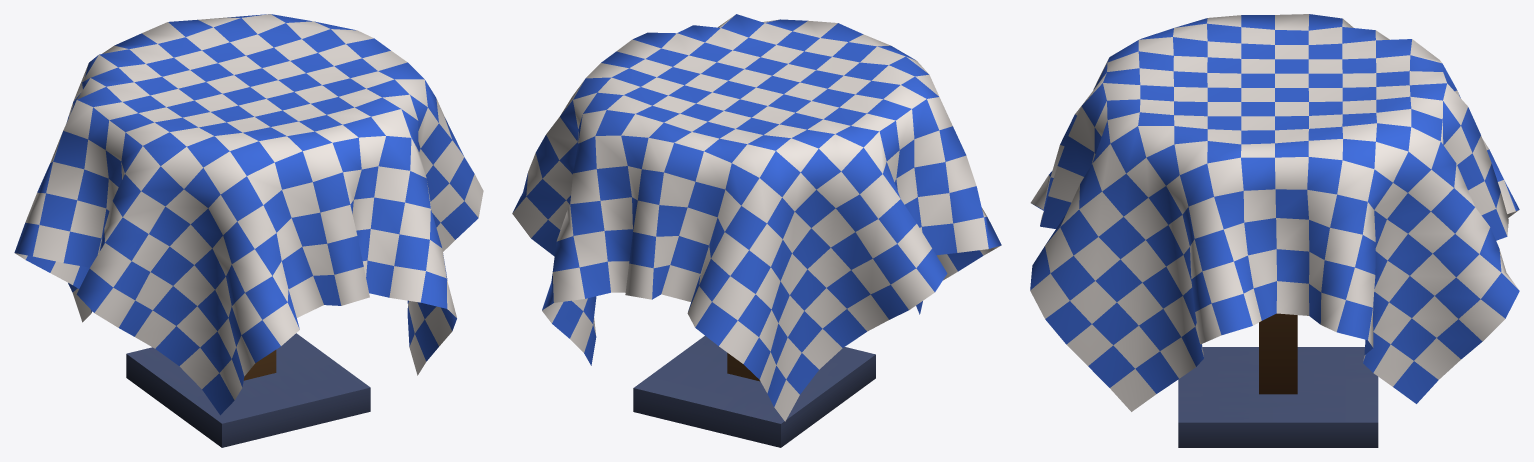
File: Table_01B.fbx
3 renders of one model, left to right at view 1: azimuth 30°, elevation 25°; view 2: azimuth 150°, elevation 25°; view 3: azimuth 270°, elevation 25°, orthographic. The views are drawn at different scales.
Visible parts, largest first — view 1: Table_01B; view 2: Table_01B; view 3: Table_01B.
Part boxes in pixels (x1,y1,x2,y2): Table_01B: [14, 14, 483, 447]; Table_01B: [512, 14, 1001, 447]; Table_01B: [1030, 14, 1519, 447].
Bounding box in the file's own units: 135 × 97.94 × 132.
Materials: 3 (3 with a texture image).
